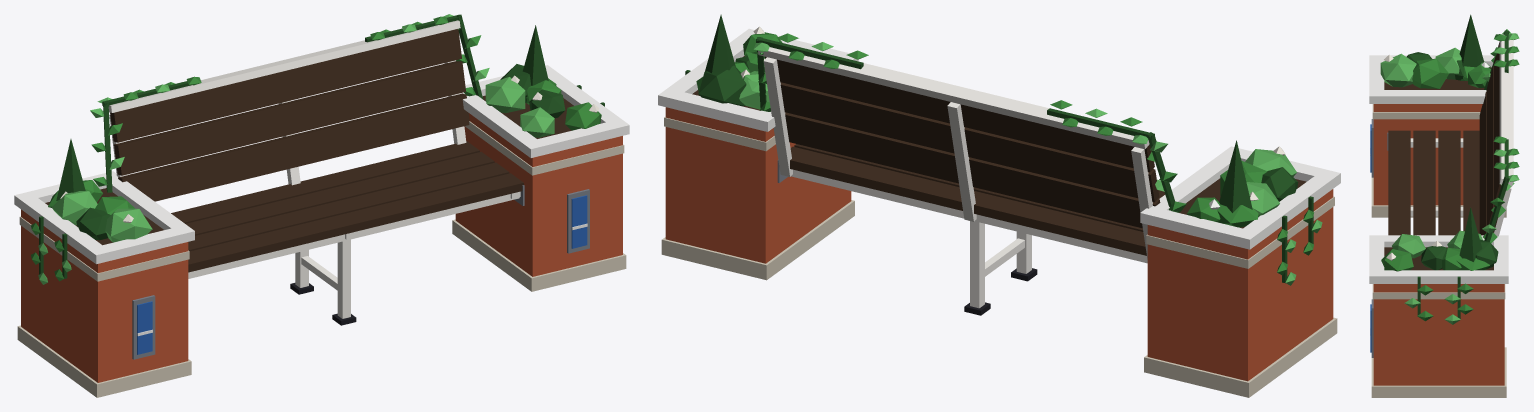
Rendered from bangku.glb.
The picture shows the model from 3 angles, left to right: view 1: azimuth 30°, elevation 25°; view 2: azimuth 150°, elevation 25°; view 3: azimuth 270°, elevation 25°; orthographic projection. The views are drawn at different scales.
Visible parts, largest first — view 1: backrest_dark_wood, planters_terracotta, seat_dark_wood, planters_white_light, planters_white_dark, frame_white, plants_leaf_green_light, backrest_white, plants_leaf_green_dark, vines_leaf_green_dark, plants_leaf_green, planters_sky_blue (+4 smaller); view 2: planters_terracotta, backrest_dark_wood, planters_white_light, planters_white_dark, frame_white, seat_dark_wood, backrest_white, plants_leaf_green_dark, vines_leaf_green_dark, plants_leaf_green, plants_leaf_green_light, vines_leaf_green (+1 smaller); view 3: planters_terracotta, seat_dark_wood, planters_white_light, planters_white_dark, backrest_dark_wood, plants_leaf_green_dark, plants_leaf_green, plants_leaf_green_light, backrest_white, vines_leaf_green, vines_leaf_green_dark, planters_dark_wood (+4 smaller).
Part boxes in pixels (x1,y1,x2,y2): backrest_dark_wood: (110,29,469,201); planters_terracotta: (21,113,622,382); seat_dark_wood: (171,141,523,272); planters_white_light: (14,65,629,336); planters_white_dark: (17,121,626,397); frame_white: (109,60,520,318); plants_leaf_green_light: (52,77,554,242); backrest_white: (108,20,460,112); plants_leaf_green_dark: (56,25,565,240); vines_leaf_green_dark: (39,14,604,278); plants_leaf_green: (48,78,601,215); planters_sky_blue: (137,195,587,354); planters_terracotta: (665,107,1333,381); backrest_dark_wood: (765,56,1160,228); planters_white_light: (658,28,1340,249); planters_white_dark: (661,117,1337,397); frame_white: (763,57,1152,308); seat_dark_wood: (790,144,1165,255); backrest_white: (758,47,1149,149); plants_leaf_green_dark: (698,14,1298,227); vines_leaf_green_dark: (685,37,1313,283); plants_leaf_green: (696,32,1267,227); plants_leaf_green_light: (739,71,1296,216); vines_leaf_green: (746,33,1313,275); planters_terracotta: (1373,104,1504,385); seat_dark_wood: (1388,130,1479,235); planters_white_light: (1369,55,1508,336); planters_white_dark: (1371,104,1506,397); backrest_dark_wood: (1479,42,1501,235); plants_leaf_green_dark: (1406,14,1498,270); plants_leaf_green: (1381,58,1490,271); plants_leaf_green_light: (1380,47,1482,258); backrest_white: (1499,34,1513,186); vines_leaf_green: (1417,34,1519,321); vines_leaf_green_dark: (1417,30,1509,318); planters_dark_wood: (1384,67,1493,270).
Size of the model in its own units: 2.55 by 0.993 by 0.7111.
